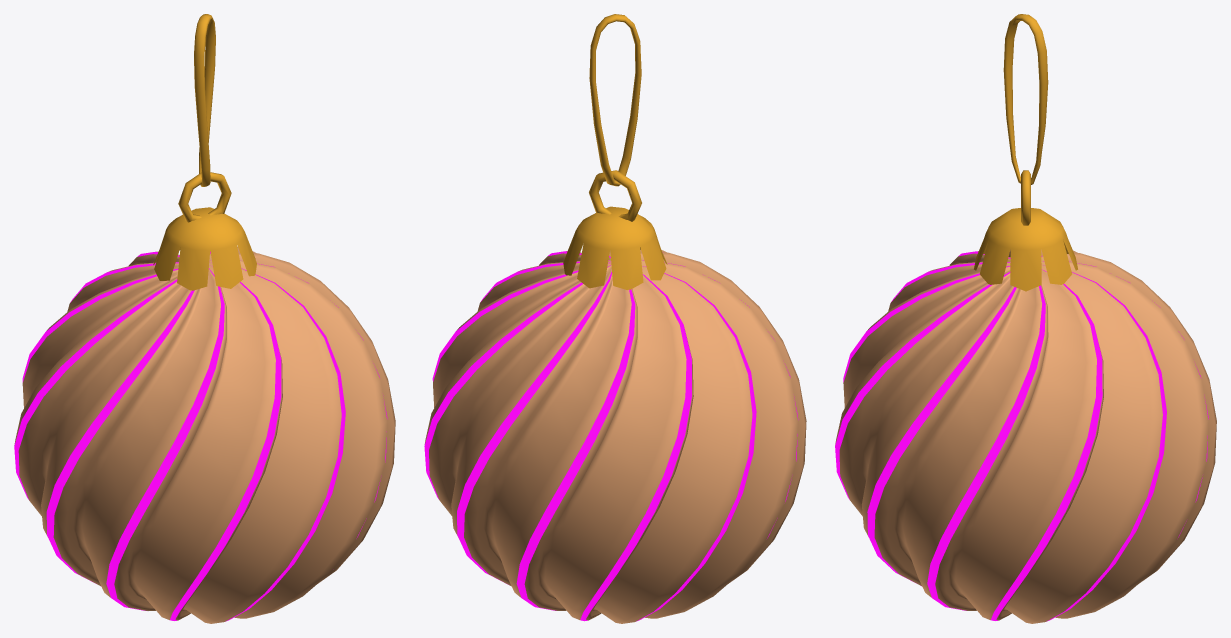
File: Ball_Sponsor.fbx
The picture shows the model from 3 angles, left to right: view 1: azimuth 30°, elevation 25°; view 2: azimuth 150°, elevation 25°; view 3: azimuth 270°, elevation 25°; orthographic projection.
Visible parts, largest first — view 1: Ball Sponsor; view 2: Ball Sponsor; view 3: Ball Sponsor.
Boxes of the visible parts, <box> form: Ball Sponsor: <box>14,14,395,623</box>; Ball Sponsor: <box>424,14,806,623</box>; Ball Sponsor: <box>835,14,1216,623</box>.
Size of the model in its own units: 5.71 by 9.71 by 5.71.
